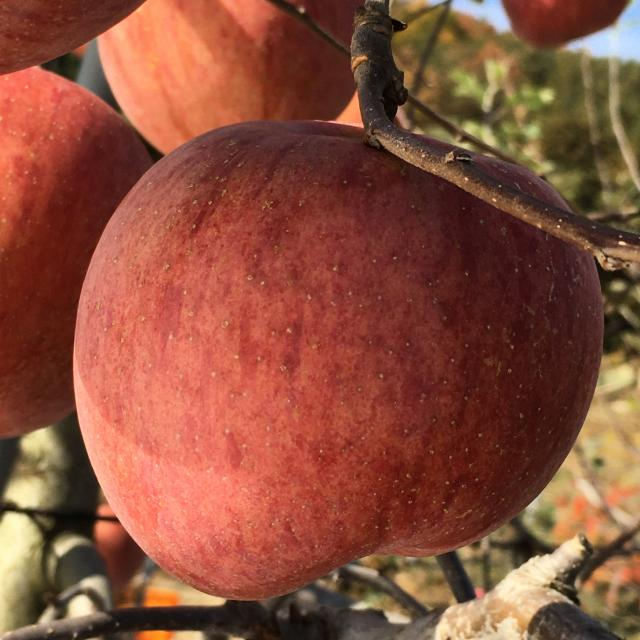fresh: (65, 112, 611, 607)
